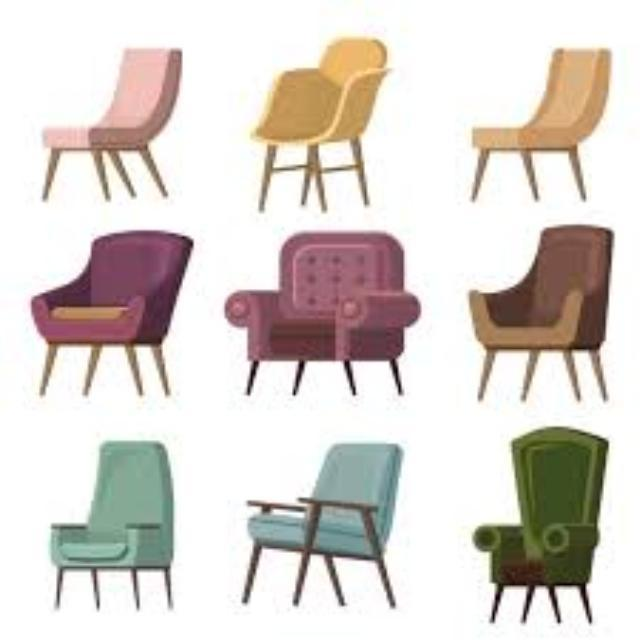obstacle: (17, 417, 219, 633), (240, 413, 432, 635), (233, 14, 421, 236), (438, 9, 630, 213), (462, 412, 628, 640), (441, 222, 640, 408), (26, 23, 210, 217), (17, 224, 199, 406), (639, 222, 640, 408)
